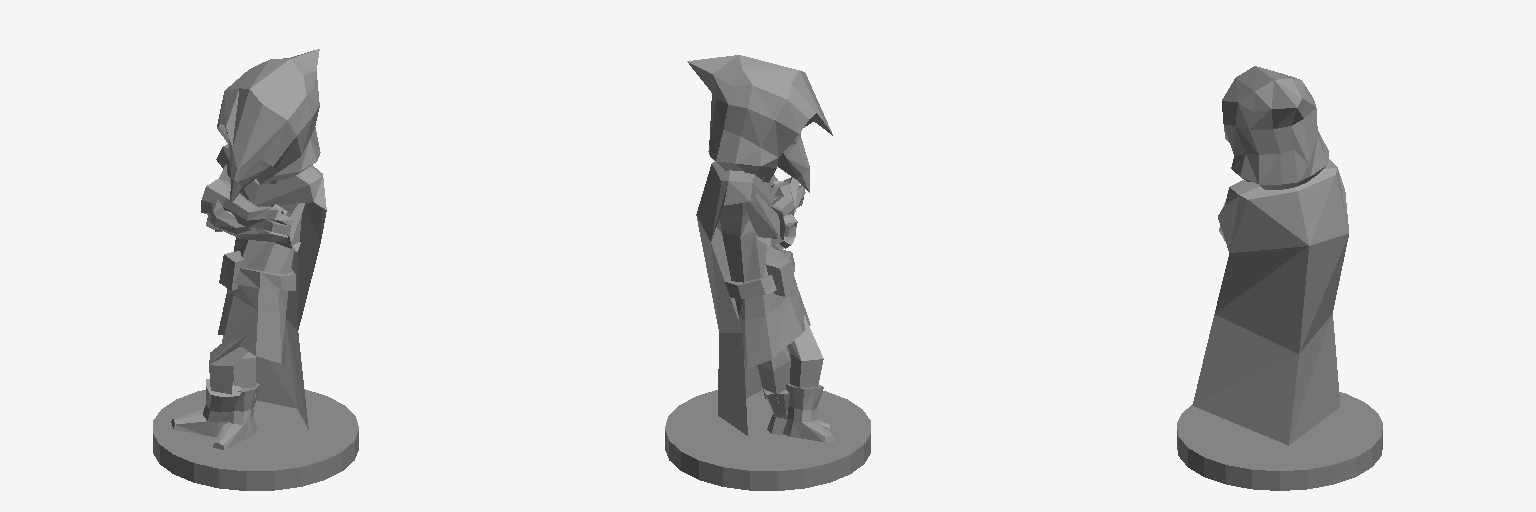
The model's file is PlagueDoctor.obj.
3 views of the same model, side by side, from view 1: azimuth 30°, elevation 25°; view 2: azimuth 150°, elevation 25°; view 3: azimuth 270°, elevation 25° (orthographic).
Parts seen in each view (by area): view 1: PlagueDoctor, Stand; view 2: PlagueDoctor, Stand; view 3: PlagueDoctor, Stand.
Part boxes in pixels (left/top/right/bottom): PlagueDoctor: left=171, top=49, right=326, bottom=449; Stand: left=153, top=389, right=358, bottom=490; PlagueDoctor: left=687, top=55, right=834, bottom=441; Stand: left=665, top=390, right=870, bottom=490; PlagueDoctor: left=1192, top=66, right=1348, bottom=445; Stand: left=1177, top=392, right=1382, bottom=490.
Size of the model in its own units: 14.55 by 29.78 by 14.59.